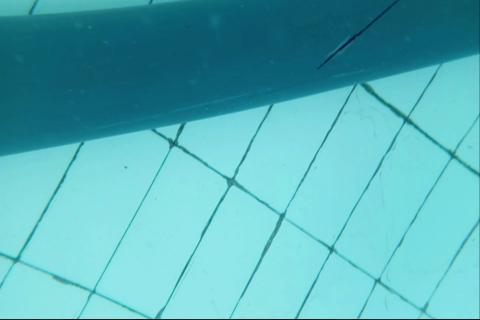keretakan: (318, 0, 398, 68)
